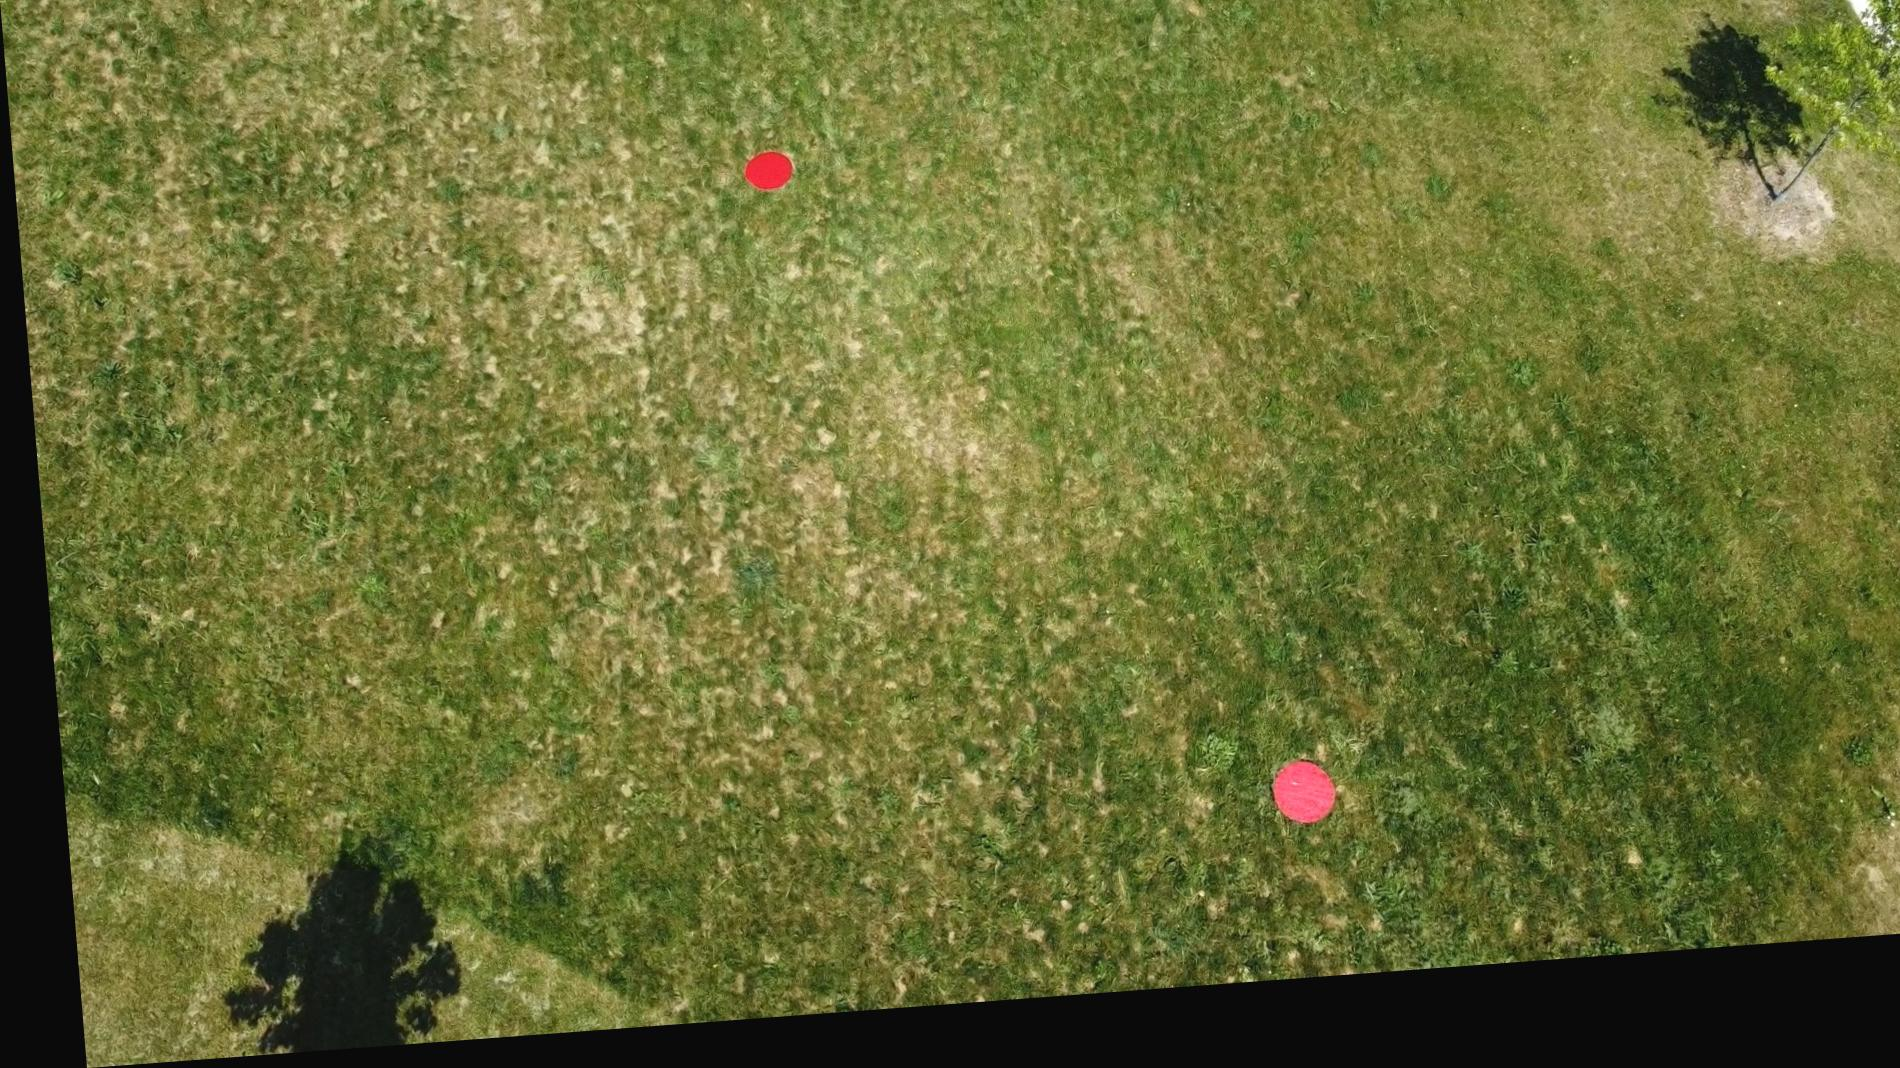Red: (1251, 774, 1325, 849), (736, 158, 793, 205)
